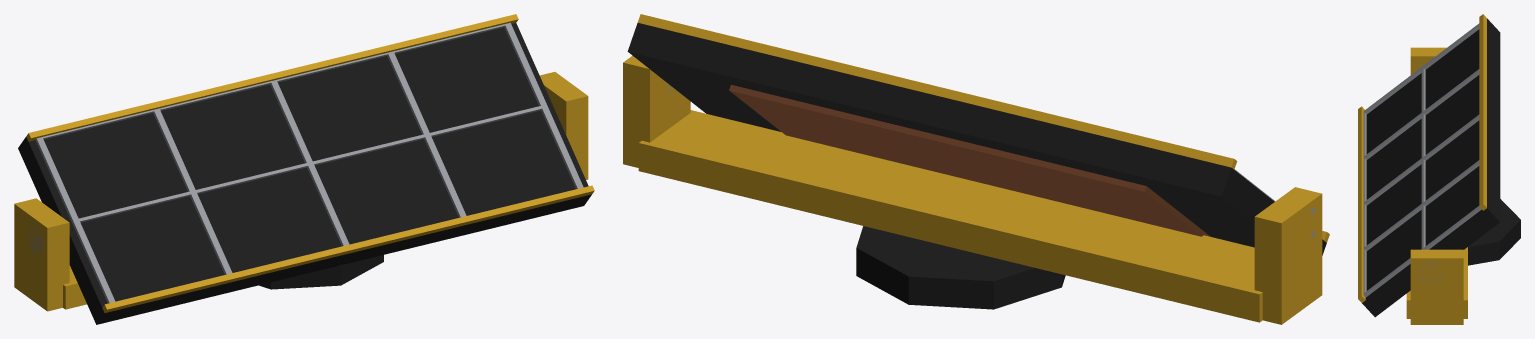
The model's file is dr5_array.obj.
3 renders of one model, left to right at view 1: azimuth 30°, elevation 25°; view 2: azimuth 150°, elevation 25°; view 3: azimuth 270°, elevation 25°, orthographic. The views are drawn at different scales.
Visible parts, largest first — view 1: dr5_array; view 2: dr5_array; view 3: dr5_array.
Boxes of the visible parts, left/top/right/bottom form: dr5_array: left=14, top=14, right=594, bottom=324; dr5_array: left=623, top=14, right=1329, bottom=324; dr5_array: left=1358, top=14, right=1520, bottom=324.
Bounding box in the file's own units: 2.44 × 0.6984 × 0.7978.
